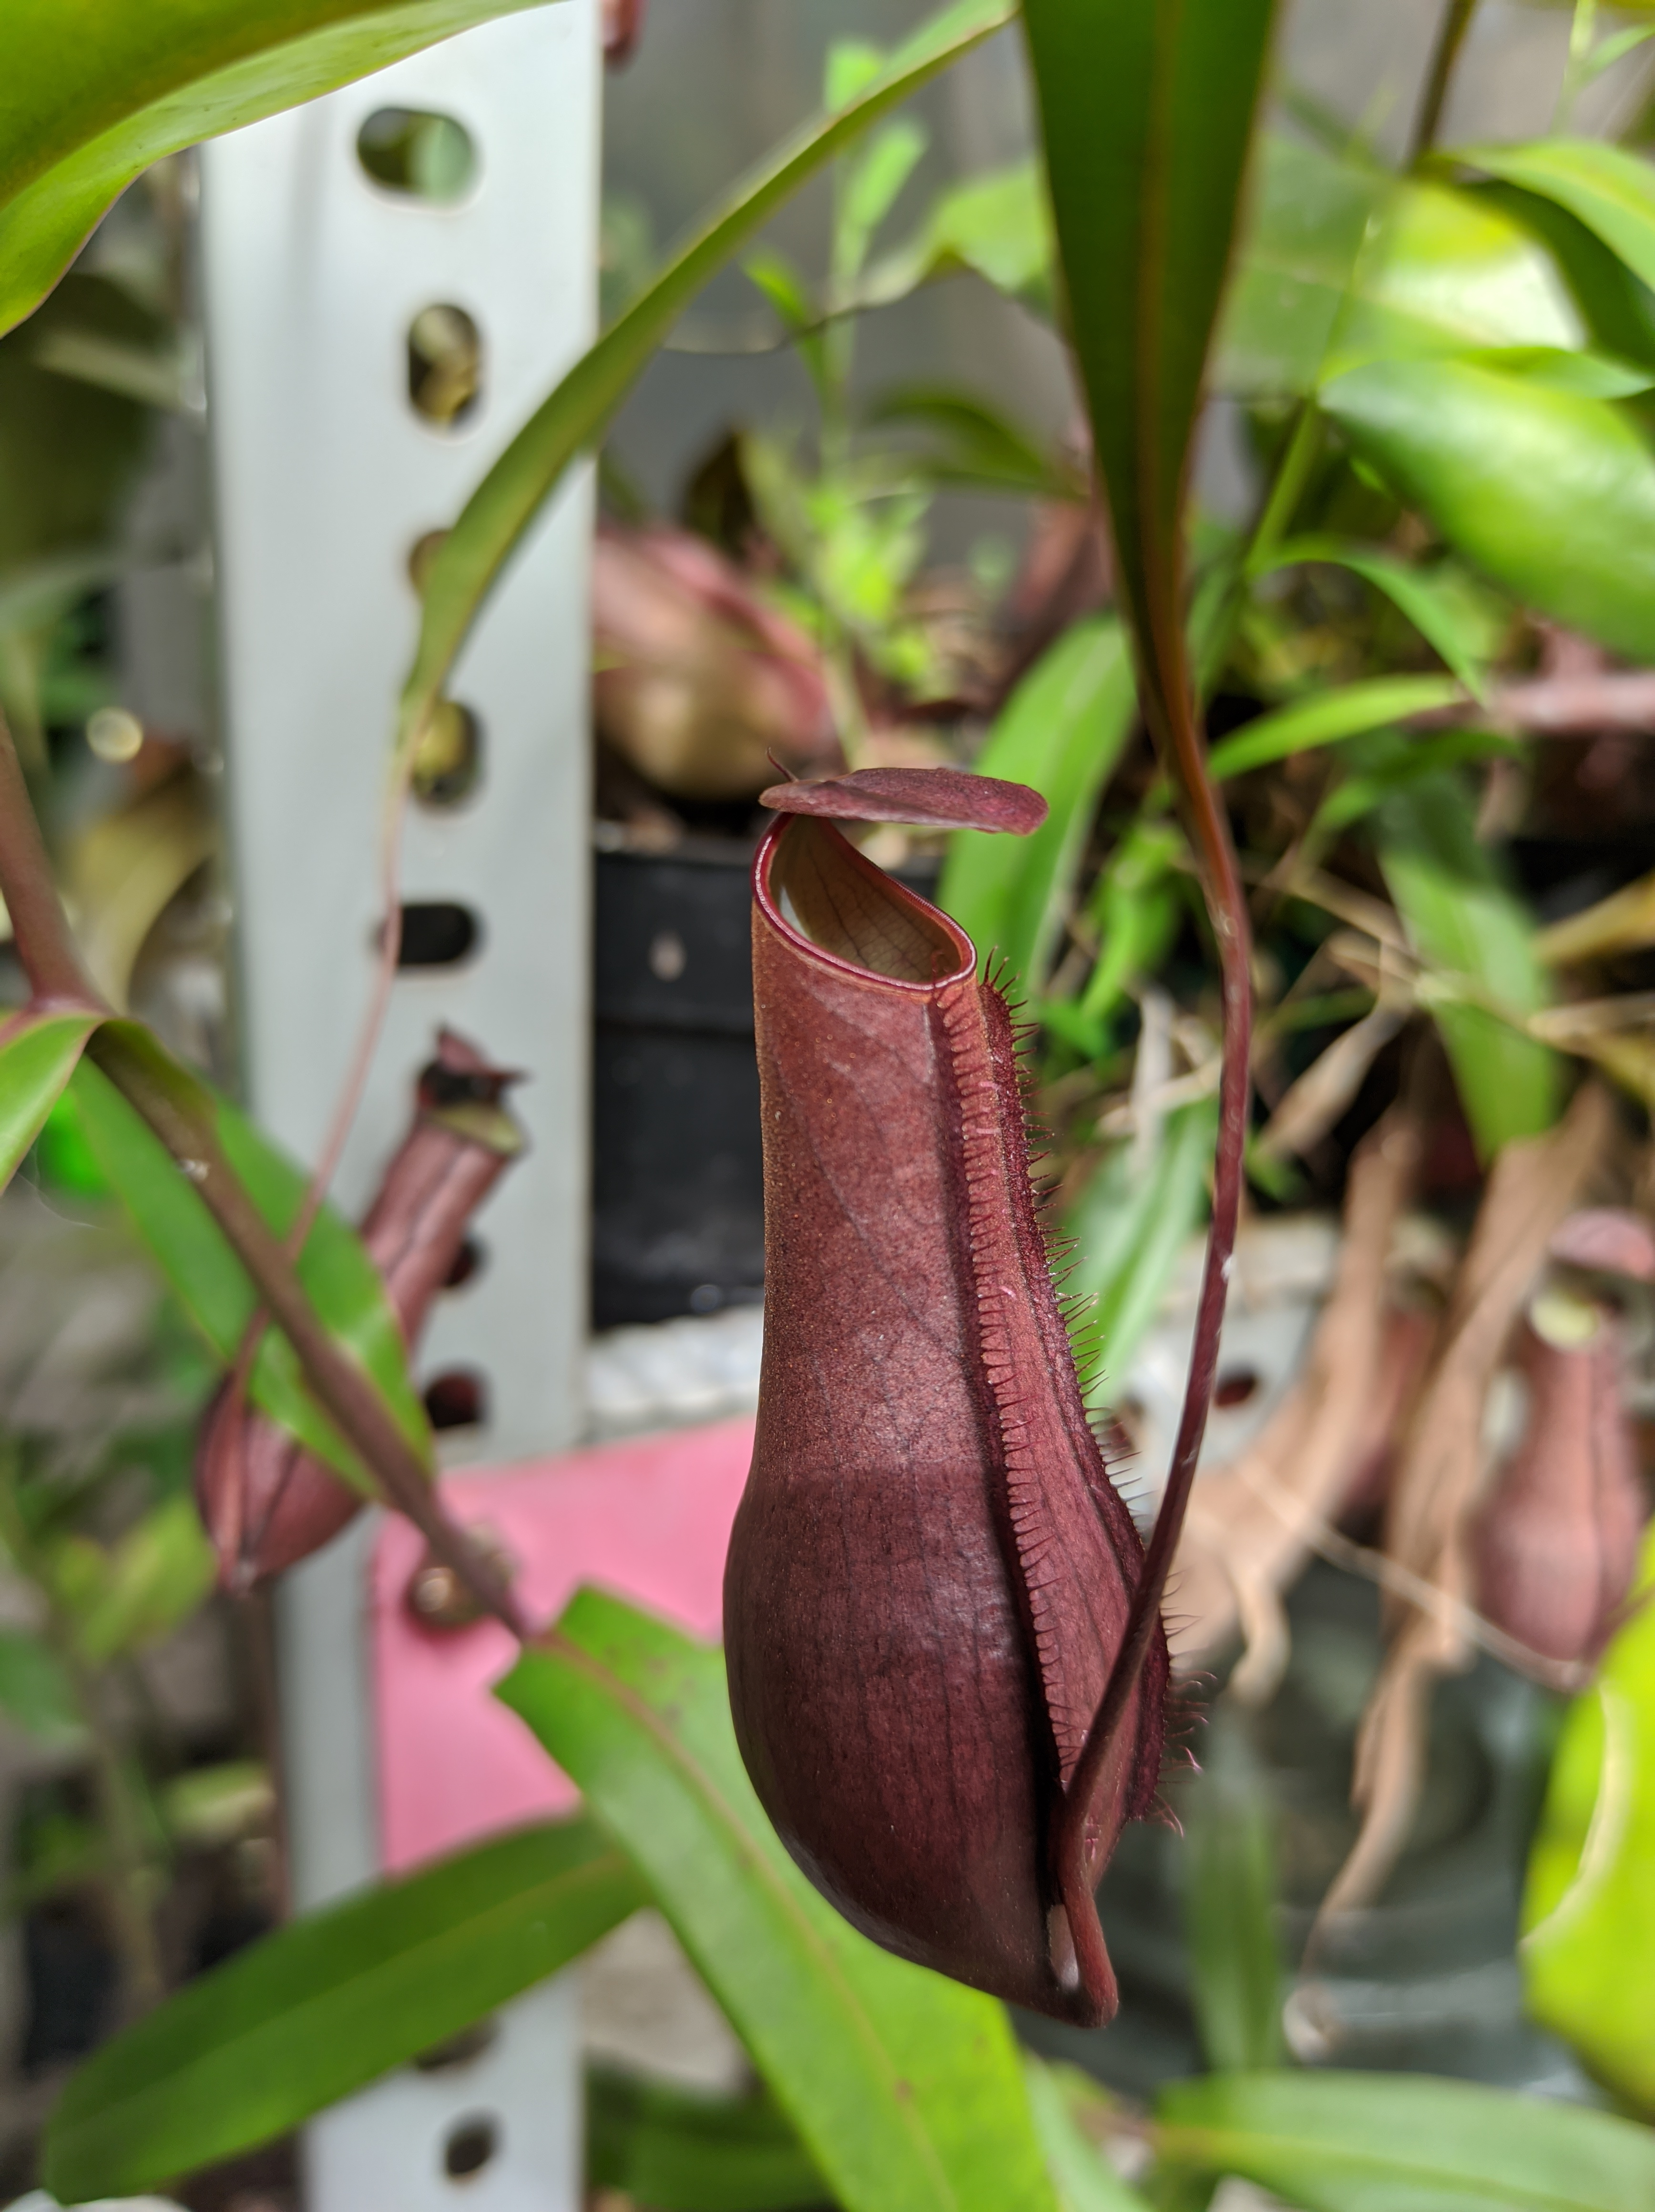Gracilis: (603, 670, 1286, 2066)
